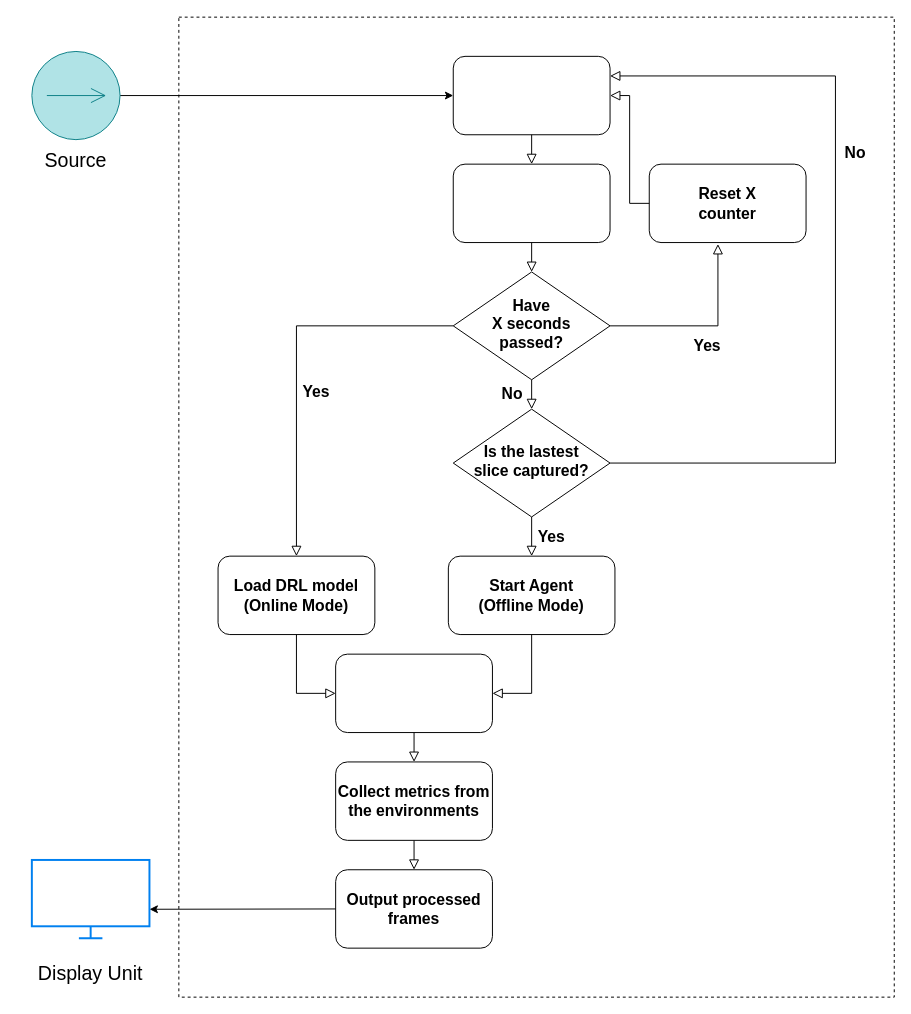
Some shapes in this 911 by 1014 pixel diagram are drawn without their labels. The centre of each missing label's shape, as x and y in pixels:
"Assign the frames to the environments" belongs at point (413, 693).
"Read segment of audio and text" belongs at point (531, 95).
"Save segment of audio and text" belongs at point (531, 203).
